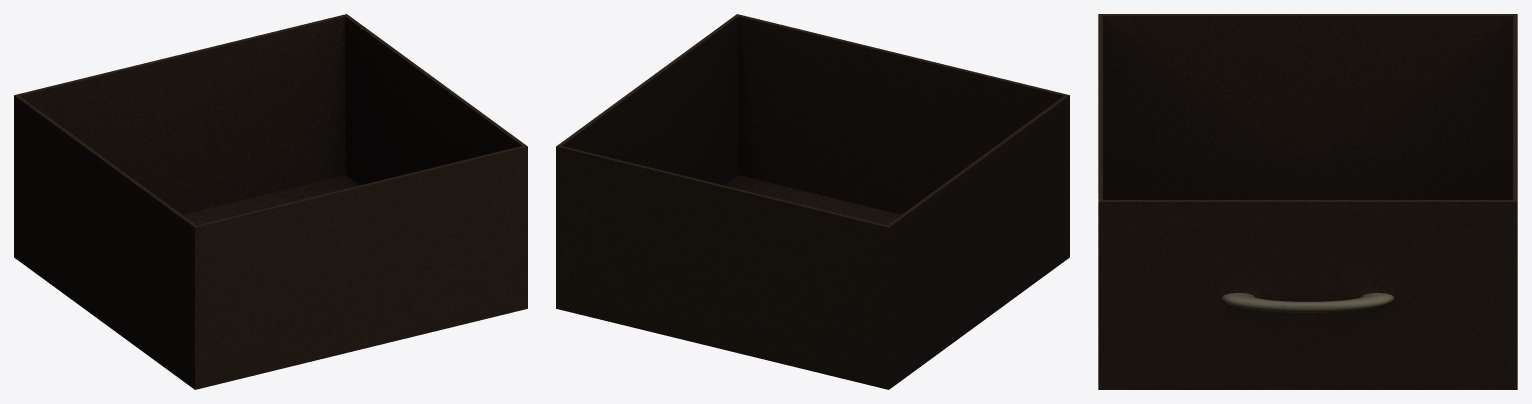
File: drawer-middle.obj
3 renders of one model, left to right at view 1: azimuth 30°, elevation 25°; view 2: azimuth 150°, elevation 25°; view 3: azimuth 270°, elevation 25°, orthographic. The views are drawn at different scales.
Parts seen in each view (by area): view 1: Drawer_Middle_Cube.007; view 2: Drawer_Middle_Cube.007; view 3: Drawer_Middle_Cube.007.
Boxes of the visible parts, x1,y1,x2,y2 form: Drawer_Middle_Cube.007: (14,14,527,389); Drawer_Middle_Cube.007: (556,14,1069,389); Drawer_Middle_Cube.007: (1098,14,1517,389).
Size of the model in its own units: 0.5287 by 0.2317 by 0.4688.
2 materials, 2 textured.
